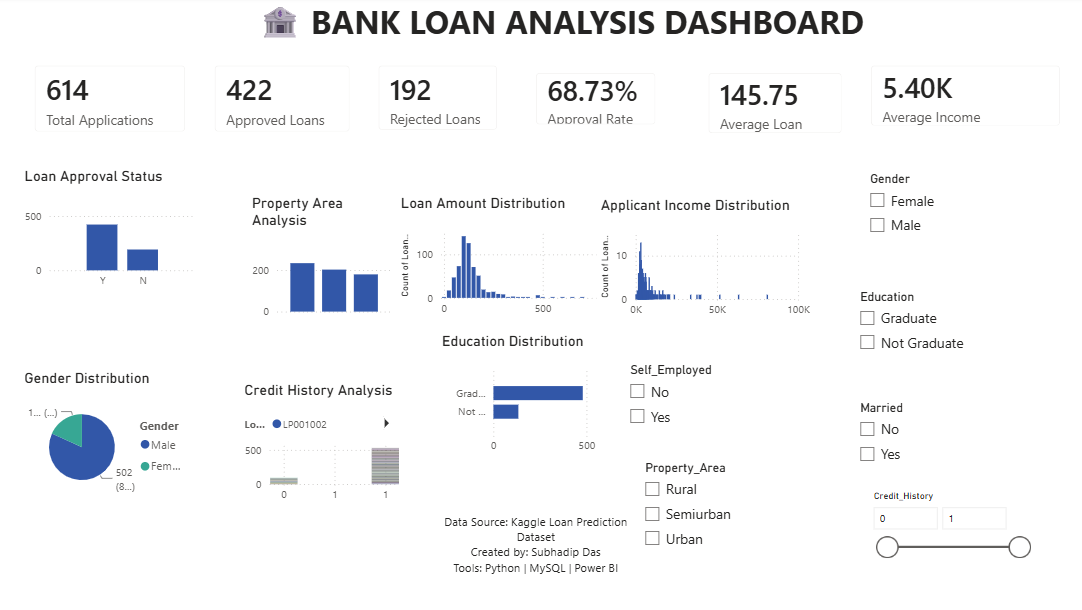

This screenshot's page, from the dashboard's own definition file:
{"tool":"powerbi","page":{"name":"Page 1","canvas":[1280,720],"ordinal":0},"visuals":[{"type":"cardVisual","fields":{"Data":["Bank Loan.Total Applications"]},"box":[7.3,64,209.8,111.1],"z":0},{"type":"cardVisual","fields":{"Data":["Bank Loan.Approved Loans"]},"box":[234.2,64,191.3,111.1],"z":1000},{"type":"cardVisual","fields":{"Data":["Bank Loan.Rejected Loans"]},"box":[424.8,64,172.8,109.5],"z":2000},{"type":"cardVisual","fields":{"Data":["Bank Loan.Approval Rate"]},"box":[608.1,72.7,173.1,94.6],"z":3000},{"type":"cardVisual","fields":{"Data":["Bank Loan.Average Loan"]},"box":[808.9,72.7,189.7,104.9],"z":4000},{"type":"cardVisual","fields":{"Data":["Bank Loan.Average Income"]},"box":[998,64,254.5,104.9],"z":5000},{"type":"clusteredColumnChart","title":"Loan Approval Status","fields":{"Category":["Bank Loan.Loan_Status"],"Y":["CountNonNull(Bank Loan.Loan_ID)"]},"box":[0,199.3,210,150],"z":6000},{"type":"pieChart","title":"Gender Distribution","fields":{"Category":["Bank Loan.Gender"],"Y":["CountNonNull(Bank Loan.Loan_ID)"]},"box":[7.3,436.5,210,150],"z":7000},{"type":"clusteredBarChart","title":"Education Distribution","fields":{"Category":["Bank Loan.Education"],"Y":["CountNonNull(Bank Loan.Loan_ID)"]},"box":[510.7,391.4,210,150],"z":8000},{"type":"columnChart","title":"Property Area Analysis","fields":{"Category":["Bank Loan.Property_Area"],"Y":["CountNonNull(Bank Loan.Loan_ID)"]},"box":[289.5,231.3,173,150],"z":9000},{"type":"columnChart","title":"Credit History Analysis","fields":{"Category":["Bank Loan.Credit_History"],"Y":["CountNonNull(Bank Loan.Loan_Status)"],"Series":["Bank Loan.Loan_ID"]},"box":[280.8,448.1,190,150],"z":10000},{"type":"columnChart","title":"Loan Amount Distribution","fields":{"Category":["Bank Loan.LoanAmount (bins)"],"Y":["CountNonNull(Bank Loan.Loan_ID)"]},"box":[462.7,231.3,255,150],"z":11000},{"type":"columnChart","title":"Applicant Income Distribution","fields":{"Category":["Bank Loan.ApplicantIncome (bins)"],"Y":["CountNonNull(Bank Loan.Loan_ID)"]},"box":[695.4,232.8,255,150],"z":12000},{"type":"slicer","fields":{"Values":["Bank Loan.Gender"]},"box":[1001,199.3,211,88.7],"z":13000},{"type":"slicer","fields":{"Values":["Bank Loan.Education"]},"box":[989.3,336.1,222.6,90.2],"z":14000},{"type":"slicer","fields":{"Values":["Bank Loan.Married"]},"box":[989.3,465.6,177.5,87.3],"z":15000},{"type":"slicer","fields":{"Values":["Bank Loan.Property_Area"]},"box":[739.1,535.4,196.4,123.7],"z":16000},{"type":"slicer","fields":{"Values":["Bank Loan.Credit_History"]},"box":[1005.3,570.3,203.7,123.7],"z":17000},{"type":"slicer","fields":{"Values":["Bank Loan.Self_Employed"]},"box":[721.6,421.9,228.4,100.4],"z":18000},{"type":"textbox","box":[7.3,0,1273,64],"z":18002},{"type":"textbox","box":[510.7,598,228.4,96],"z":18003}]}

Visuals, with their boxes in screenshot pixels (x1, y1, x2, y2), scaled from the page's 1280x720 canvas onto the 1082x610 screenshot:
cardVisual - Bank Loan.Total Applications: {"left": 6, "top": 54, "right": 184, "bottom": 148}
cardVisual - Bank Loan.Approved Loans: {"left": 198, "top": 54, "right": 360, "bottom": 148}
cardVisual - Bank Loan.Rejected Loans: {"left": 359, "top": 54, "right": 505, "bottom": 147}
cardVisual - Bank Loan.Approval Rate: {"left": 514, "top": 62, "right": 660, "bottom": 142}
cardVisual - Bank Loan.Average Loan: {"left": 684, "top": 62, "right": 844, "bottom": 150}
cardVisual - Bank Loan.Average Income: {"left": 844, "top": 54, "right": 1059, "bottom": 143}
"Loan Approval Status" clusteredColumnChart: {"left": 0, "top": 169, "right": 178, "bottom": 296}
"Gender Distribution" pieChart: {"left": 6, "top": 370, "right": 184, "bottom": 497}
"Education Distribution" clusteredBarChart: {"left": 432, "top": 332, "right": 609, "bottom": 459}
"Property Area Analysis" columnChart: {"left": 245, "top": 196, "right": 391, "bottom": 323}
"Credit History Analysis" columnChart: {"left": 237, "top": 380, "right": 398, "bottom": 507}
"Loan Amount Distribution" columnChart: {"left": 391, "top": 196, "right": 607, "bottom": 323}
"Applicant Income Distribution" columnChart: {"left": 588, "top": 197, "right": 803, "bottom": 324}
slicer - Bank Loan.Gender: {"left": 846, "top": 169, "right": 1025, "bottom": 244}
slicer - Bank Loan.Education: {"left": 836, "top": 285, "right": 1024, "bottom": 361}
slicer - Bank Loan.Married: {"left": 836, "top": 394, "right": 986, "bottom": 468}
slicer - Bank Loan.Property_Area: {"left": 625, "top": 454, "right": 791, "bottom": 558}
slicer - Bank Loan.Credit_History: {"left": 850, "top": 483, "right": 1022, "bottom": 588}
slicer - Bank Loan.Self_Employed: {"left": 610, "top": 357, "right": 803, "bottom": 443}
textbox: {"left": 6, "top": 0, "right": 1081, "bottom": 54}
textbox: {"left": 432, "top": 507, "right": 625, "bottom": 588}
